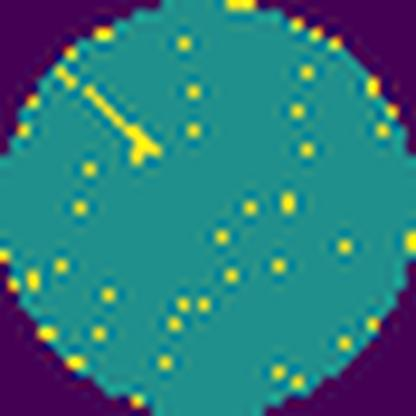Scratch: (80, 83, 168, 171)
